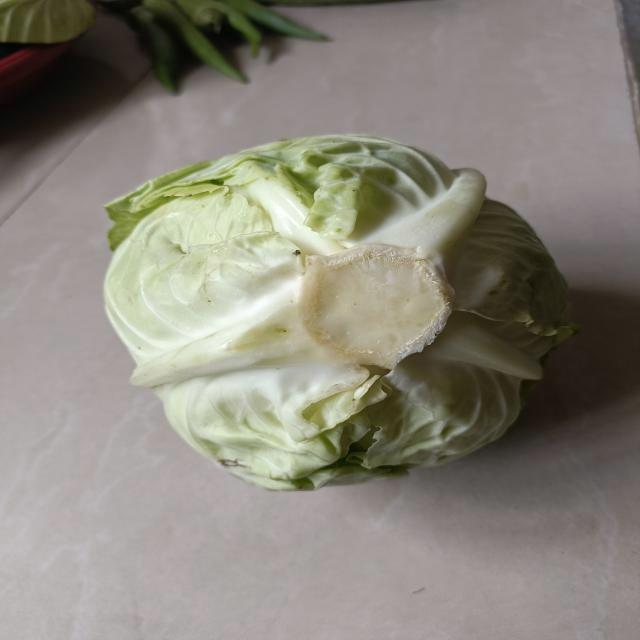cabbage: (109, 135, 572, 500)
